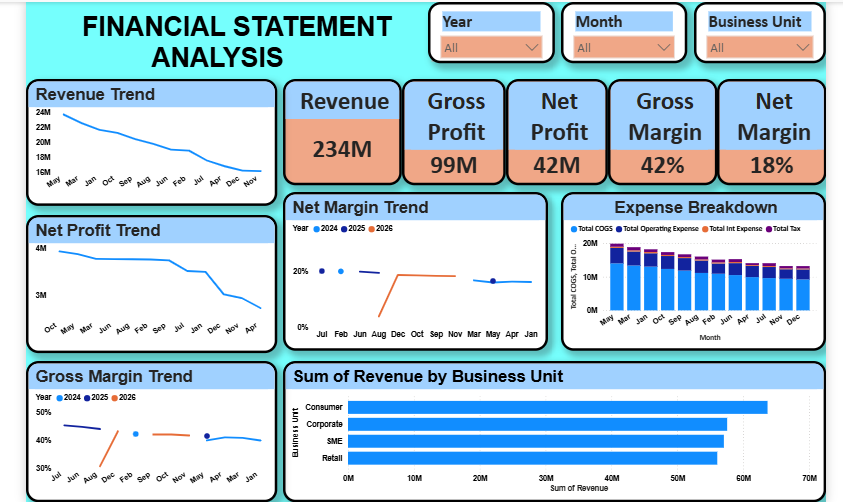

Layout of this report page (visuals, bound fields, positions):
{"tool":"powerbi","page":{"name":"Page 1","canvas":[1280,800],"ordinal":0},"visuals":[{"type":"card","title":"Revenue","fields":{"Values":["Financial_Statement_Data.Total Revenue"]},"box":[411.5,122.6,189.8,169.7],"z":0},{"type":"textbox","box":[0,11.2,662.4,97.6],"z":1000},{"type":"slicer","fields":{"Values":["Financial_Statement_Data.Year"]},"box":[643.2,0,203.2,97.6],"z":2000},{"type":"slicer","fields":{"Values":["Financial_Statement_Data.Month"]},"box":[856,0,201.6,97.6],"z":3000},{"type":"slicer","fields":{"Values":["Financial_Statement_Data.Business Unit"]},"box":[1068.8,0,211.2,97.6],"z":4000},{"type":"card","title":"Gross Profit","fields":{"Values":["Sum(Financial_Statement_Data.Gross Profit)"]},"box":[601.4,122.6,166.3,169.7],"z":6000},{"type":"card","title":"Net Profit","fields":{"Values":["Sum(Financial_Statement_Data.Net Profit )"]},"box":[767.7,122.6,162.9,169.7],"z":7000},{"type":"card","title":"Gross Margin","fields":{"Values":["Financial_Statement_Data.Gross Margin%1"]},"box":[930.6,122.6,174.7,169.7],"z":8000},{"type":"card","title":"Net Margin","fields":{"Values":["Financial_Statement_Data.Net Margin%1"]},"box":[1105.3,122.6,174.7,169.7],"z":9000},{"type":"lineChart","title":"Revenue Trend","fields":{"Y":["Sum(Financial_Statement_Data.Revenue)"],"Category":["Financial_Statement_Data.Month"]},"box":[0,123.2,401.6,203.2],"z":10000},{"type":"lineChart","title":" Net Profit Trend","fields":{"Category":["Financial_Statement_Data.Month"],"Y":["Sum(Financial_Statement_Data.Net Profit )"]},"box":[0,340.8,401.6,220.8],"z":11000},{"type":"barChart","fields":{"Category":["Financial_Statement_Data.Business Unit"],"Y":["Sum(Financial_Statement_Data.Revenue)"]},"box":[411.2,574.4,868.8,225.6],"z":12000},{"type":"lineChart","title":" Net Margin Trend ","fields":{"Category":["Financial_Statement_Data.Month"],"Series":["Financial_Statement_Data.Year"],"Y":["Financial_Statement_Data.Net Margin%1"]},"box":[411.2,304,424,254.4],"z":13000},{"type":"columnChart","title":"Expense Breakdown","fields":{"Category":["Financial_Statement_Data.Month"],"Y":["Financial_Statement_Data.Total COGS","Financial_Statement_Data.Total Operating Expense","Financial_Statement_Data.Total Int Expense","Financial_Statement_Data.Total Tax"]},"box":[856,304,424,254.4],"z":14000},{"type":"lineChart","title":"Gross Margin Trend","fields":{"Category":["Financial_Statement_Data.Month"],"Series":["Financial_Statement_Data.Year"],"Y":["Financial_Statement_Data.Gross Margin%1"]},"box":[0,574.4,401.6,225.6],"z":15000}]}

Visuals, with their boxes in screenshot pixels (x1, y1, x2, y2):
"Revenue" card: box=[281, 78, 399, 183]
textbox: box=[26, 9, 437, 70]
slicer - Financial_Statement_Data.Year: box=[425, 2, 551, 63]
slicer - Financial_Statement_Data.Month: box=[557, 2, 682, 63]
slicer - Financial_Statement_Data.Business Unit: box=[689, 2, 820, 63]
"Gross Profit" card: box=[399, 78, 502, 183]
"Net Profit" card: box=[502, 78, 603, 183]
"Gross Margin" card: box=[603, 78, 711, 183]
"Net Margin" card: box=[711, 78, 820, 183]
"Revenue Trend" lineChart: box=[26, 79, 275, 204]
" Net Profit Trend" lineChart: box=[26, 213, 275, 350]
barChart - Financial_Statement_Data.Business Unit x Sum(Financial_Statement_Data.Revenue): box=[281, 358, 820, 498]
" Net Margin Trend " lineChart: box=[281, 191, 544, 348]
"Expense Breakdown" columnChart: box=[557, 191, 820, 348]
"Gross Margin Trend" lineChart: box=[26, 358, 275, 498]
